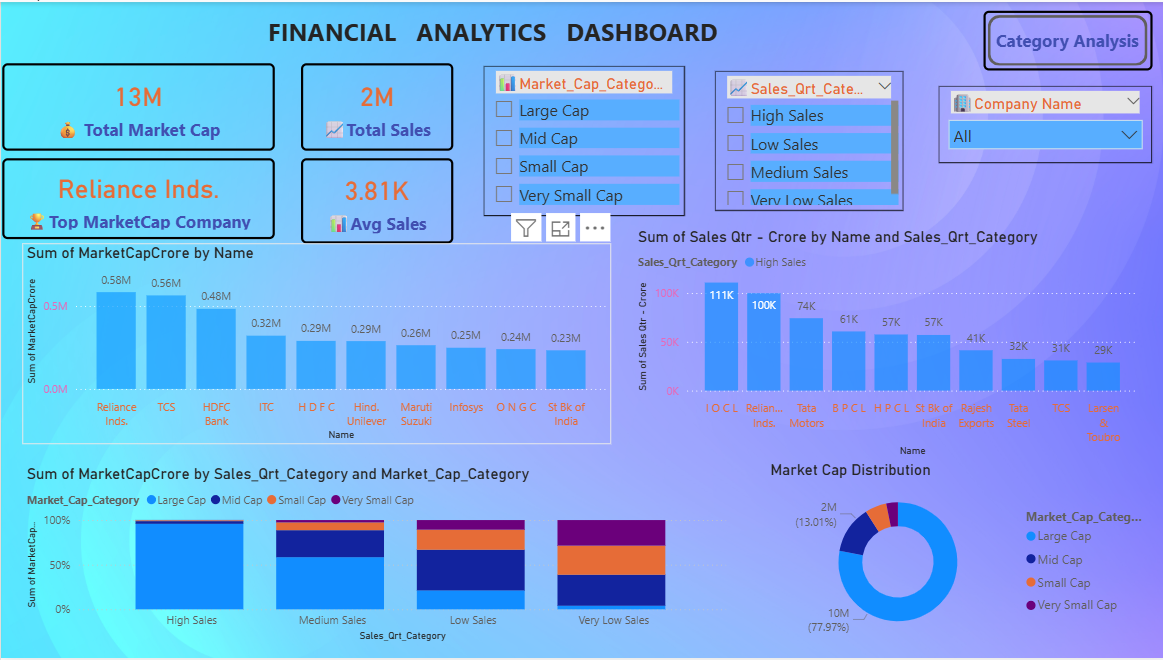

The page's visual inventory and layout, read from the dashboard file:
{"tool":"powerbi","page":{"name":"Page 1","canvas":[1280,720],"ordinal":0},"visuals":[{"type":"card","fields":{"Values":["FinancialData.Total Market Cap"]},"box":[1.4,67.2,299.1,96.1],"z":0},{"type":"card","fields":{"Values":["FinancialData.Total Sales"]},"box":[329.3,67.2,167.4,96.1],"z":1000},{"type":"card","fields":{"Values":["FinancialData.Avg Sales"]},"box":[329.3,171.5,167.4,93.3],"z":2000},{"type":"card","fields":{"Values":["FinancialData.Top MarketCap Company"]},"box":[1.4,171.5,299.1,89.2],"z":3000},{"type":"slicer","fields":{"Values":["FinancialData.Market_Cap_Category"]},"box":[529.7,70,220.9,164.7],"z":4000},{"type":"slicer","fields":{"Values":["FinancialData.Sales_Qrt_Category"]},"box":[783.5,75.5,207.2,153.7],"z":5000},{"type":"slicer","fields":{"Values":["FinancialData.Name"]},"box":[1029.2,91.9,234.6,85.1],"z":6000},{"type":"columnChart","fields":{"Category":["FinancialData.Name"],"Y":["Sum(FinancialData.MarketCapCrore)"]},"box":[23.3,264.8,646.3,220.9],"z":7000},{"type":"clusteredColumnChart","fields":{"Category":["FinancialData.Name"],"Y":["Sum(FinancialData.Sales Qtr - Crore)"],"Series":["FinancialData.Sales_Qrt_Category"]},"box":[694.3,247,558.5,256.6],"z":8000},{"type":"donutChart","title":" Market Cap Distribution","fields":{"Category":["FinancialData.Market_Cap_Category"],"Y":["Sum(FinancialData.MarketCapCrore)"]},"box":[839.8,503.6,424,203.1],"z":9000},{"type":"hundredPercentStackedColumnChart","fields":{"Category":["FinancialData.Sales_Qrt_Category"],"Y":["Sum(FinancialData.MarketCapCrore)"],"Series":["FinancialData.Market_Cap_Category"]},"box":[23.3,507.7,778,199],"z":10000},{"type":"actionButton","box":[1078.6,9.6,185.2,65.9],"z":11000},{"type":"textbox","box":[1.4,9.6,1077.2,46.7],"z":12000}]}

Visuals, with their boxes in screenshot pixels (x1, y1, x2, y2), scaled from the page's 1280x720 canvas onto the 1163x660 screenshot:
card - FinancialData.Total Market Cap: BBox(1, 62, 273, 150)
card - FinancialData.Total Sales: BBox(299, 62, 451, 150)
card - FinancialData.Avg Sales: BBox(299, 157, 451, 243)
card - FinancialData.Top MarketCap Company: BBox(1, 157, 273, 239)
slicer - FinancialData.Market_Cap_Category: BBox(481, 64, 682, 215)
slicer - FinancialData.Sales_Qrt_Category: BBox(712, 69, 900, 210)
slicer - FinancialData.Name: BBox(935, 84, 1148, 162)
columnChart - FinancialData.Name x Sum(FinancialData.MarketCapCrore): BBox(21, 243, 608, 445)
clusteredColumnChart - FinancialData.Name x Sum(FinancialData.Sales Qtr - Crore): BBox(631, 226, 1138, 462)
" Market Cap Distribution" donutChart: BBox(763, 462, 1148, 648)
hundredPercentStackedColumnChart - FinancialData.Sales_Qrt_Category x Sum(FinancialData.MarketCapCrore): BBox(21, 465, 728, 648)
actionButton: BBox(980, 9, 1148, 69)
textbox: BBox(1, 9, 980, 52)
